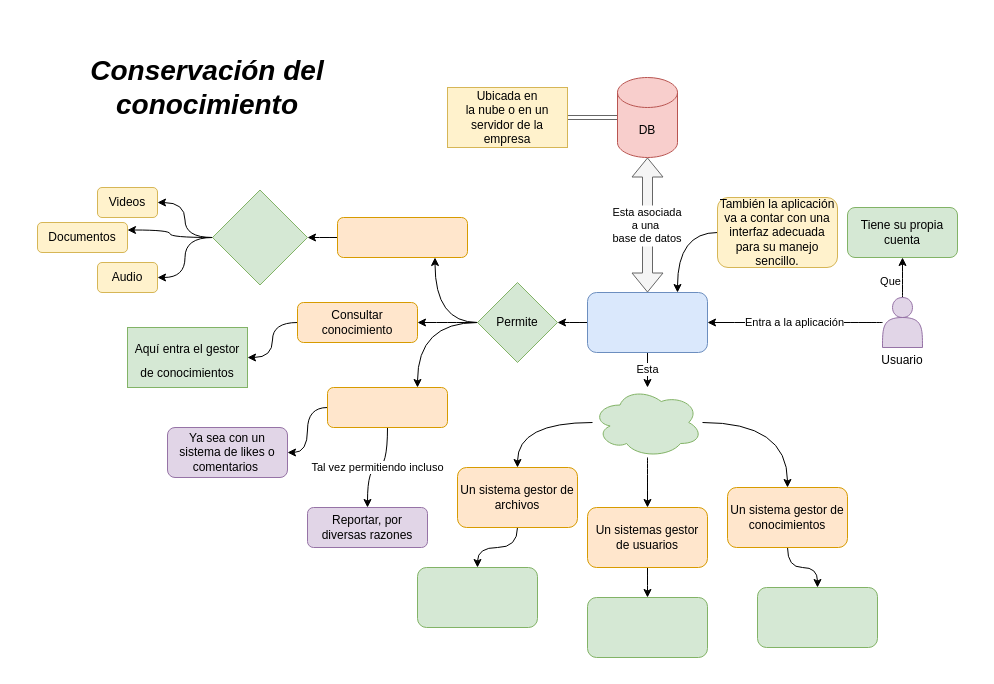
Some shapes in this 994 by 684 pixel diagram are drawn without their labels. The centre of each missing label's shape, as x and y in pixels:
"A través de diferentes medios" goes at (260,237).
"Aplicación" goes at (647,322).
"Cuenta con" goes at (647,422).
"Para buscar y acceder a lo que se requiere en el momento" goes at (817,617).
"Para crear, editar y borrarlos" goes at (647,627).
"Publicar conocimiento" goes at (402,237).
"Que permita controlar el tipo de archivo subidos y el tamaño" goes at (477,597).
"Valorar conocimiento" goes at (387,407).
